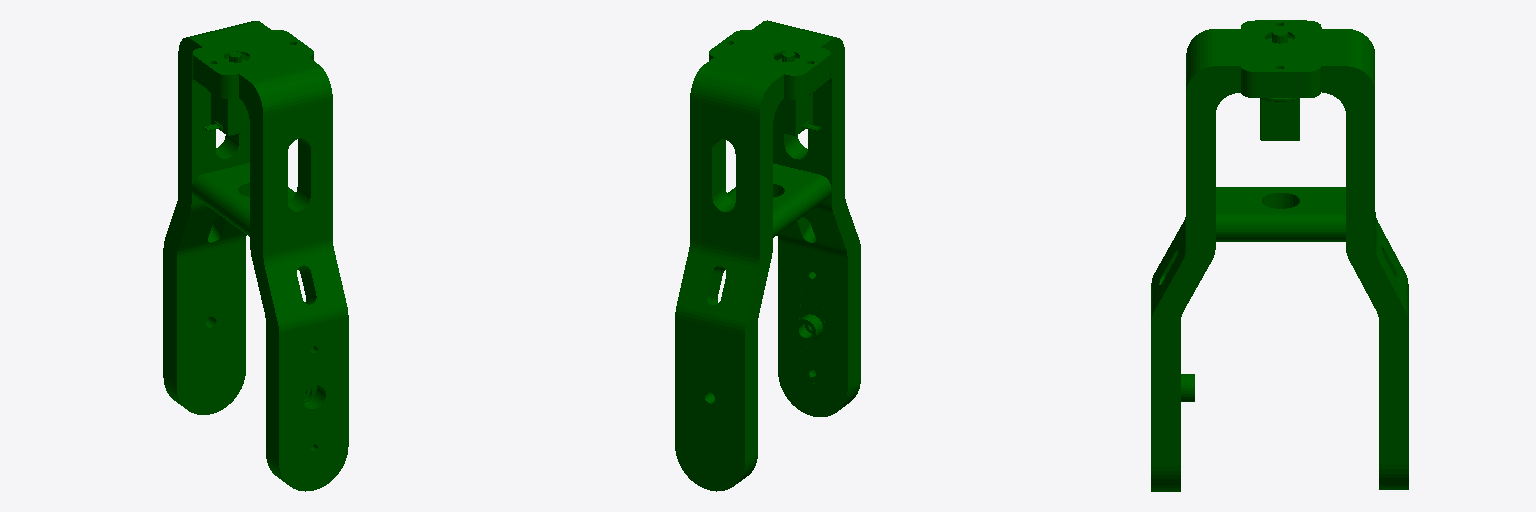
The robot description file, URDF, robot "usf_robot":
<?xml version="1.0" ?>
<!-- =================================================================================== -->
<!-- |    This document was autogenerated by xacro from usf_robot.xacro                | -->
<!-- |    EDITING THIS FILE BY HAND IS NOT RECOMMENDED                                 | -->
<!-- =================================================================================== -->
<robot name="usf_robot">
  <!-- USF colors -->
  <material name="gold">
    <color rgba="0.721 0.525 0.043 1.0"/>
  </material>
  <material name="dark_evergreen">
    <color rgba="0.0 0.392 0.0 1.0"/>
  </material>
  <material name="silver">
    <color rgba="0.700 0.700 0.700 1.000"/>
  </material>
  <transmission name="link0_to_base_link_tran">
    <type>transmission_interface/SimpleTransmission</type>
    <joint name="link0_to_base_link">
      <hardwareInterface>hardware_interface/EffortJointInterface</hardwareInterface>
    </joint>
    <actuator name="link0_to_base_link_actr">
      <hardwareInterface>hardware_interface/EffortJointInterface</hardwareInterface>
      <mechanicalReduction>1</mechanicalReduction>
    </actuator>
  </transmission>
  <transmission name="link1_to_link0_tran">
    <type>transmission_interface/SimpleTransmission</type>
    <joint name="link1_to_link0">
      <hardwareInterface>hardware_interface/EffortJointInterface</hardwareInterface>
    </joint>
    <actuator name="link1_to_link0_actr">
      <hardwareInterface>hardware_interface/EffortJointInterface</hardwareInterface>
      <mechanicalReduction>1</mechanicalReduction>
    </actuator>
  </transmission>
  <transmission name="link2_to_link1_tran">
    <type>transmission_interface/SimpleTransmission</type>
    <joint name="link2_to_link1">
      <hardwareInterface>hardware_interface/EffortJointInterface</hardwareInterface>
    </joint>
    <actuator name="link2_to_link1_actr">
      <hardwareInterface>hardware_interface/EffortJointInterface</hardwareInterface>
      <mechanicalReduction>1</mechanicalReduction>
    </actuator>
  </transmission>
  <transmission name="wrist_to_link2_tran">
    <type>transmission_interface/SimpleTransmission</type>
    <joint name="wrist_to_link2">
      <hardwareInterface>hardware_interface/EffortJointInterface</hardwareInterface>
    </joint>
    <actuator name="wrist_to_link2_actr">
      <hardwareInterface>hardware_interface/EffortJointInterface</hardwareInterface>
      <mechanicalReduction>1</mechanicalReduction>
    </actuator>
  </transmission>
  <transmission name="claw0_to_wrist_tran">
    <type>transmission_interface/SimpleTransmission</type>
    <joint name="claw0_to_wrist">
      <hardwareInterface>hardware_interface/EffortJointInterface</hardwareInterface>
    </joint>
    <actuator name="claw0_to_wrist_actr">
      <hardwareInterface>hardware_interface/EffortJointInterface</hardwareInterface>
      <mechanicalReduction>1</mechanicalReduction>
    </actuator>
  </transmission>
  <transmission name="claw1_to_wrist_tran">
    <type>transmission_interface/SimpleTransmission</type>
    <joint name="claw1_to_wrist">
      <hardwareInterface>hardware_interface/EffortJointInterface</hardwareInterface>
    </joint>
    <actuator name="claw1_to_wrist_actr">
      <hardwareInterface>hardware_interface/EffortJointInterface</hardwareInterface>
      <mechanicalReduction>1</mechanicalReduction>
    </actuator>
  </transmission>
  <gazebo>
    <plugin filename="libgazebo_ros_control.so" name="control"/>
  </gazebo>
  <gazebo reference="base_link">
    <material>Gazebo/Silver</material>
    <mu1>0.2</mu1>
    <mu2>0.2</mu2>
    <self_collide>true</self_collide>
    <gravity>true</gravity>
  </gazebo>
  <gazebo reference="link0_1">
    <material>Gazebo/Silver</material>
    <mu1>0.2</mu1>
    <mu2>0.2</mu2>
    <self_collide>true</self_collide>
  </gazebo>
  <gazebo reference="link1_1">
    <material>Gazebo/Silver</material>
    <mu1>0.2</mu1>
    <mu2>0.2</mu2>
    <self_collide>true</self_collide>
  </gazebo>
  <gazebo reference="link2_1">
    <material>Gazebo/Silver</material>
    <mu1>0.2</mu1>
    <mu2>0.2</mu2>
    <self_collide>true</self_collide>
  </gazebo>
  <gazebo reference="wrist_1">
    <material>Gazebo/Silver</material>
    <mu1>0.2</mu1>
    <mu2>0.2</mu2>
    <self_collide>true</self_collide>
  </gazebo>
  <gazebo reference="claw0_1">
    <material>Gazebo/Silver</material>
    <mu1>0.2</mu1>
    <mu2>0.2</mu2>
    <self_collide>true</self_collide>
  </gazebo>
  <gazebo reference="claw1_1">
    <material>Gazebo/Silver</material>
    <mu1>0.2</mu1>
    <mu2>0.2</mu2>
    <self_collide>true</self_collide>
  </gazebo>
  <link name="base_link">
    <inertial>
      <origin rpy="0 0 0" xyz="4.095840186019689e-05 -0.00047837113585616297 0.030465846604467023"/>
      <mass value="6.2514798322801415"/>
      <inertia ixx="0.01073" ixy="-0.0" ixz="0.0" iyy="0.010393" iyz="8e-06" izz="0.014172"/>
    </inertial>
    <visual>
      <origin rpy="0 0 0" xyz="0 0 0"/>
      <geometry>
        <mesh filename="file://[local-path]/usf_robot_description/install/usf_robot_description/share/usf_robot_description/meshes/base_link.stl" scale="0.001 0.001 0.001"/>
      </geometry>
      <material name="gold"/>
    </visual>
    <collision>
      <origin rpy="0 0 0" xyz="0 0 0"/>
      <geometry>
        <mesh filename="file://[local-path]/usf_robot_description/install/usf_robot_description/share/usf_robot_description/meshes/base_link.stl" scale="0.001 0.001 0.001"/>
      </geometry>
    </collision>
  </link>
  <link name="link0_1">
    <inertial>
      <origin rpy="0 0 0" xyz="-2.716259298227874e-06 -0.0010380049259447563 0.024075797292657686"/>
      <mass value="1.1929271090807336"/>
      <inertia ixx="0.001533" ixy="1e-06" ixz="-0.0" iyy="0.001298" iyz="3.9e-05" izz="0.000904"/>
    </inertial>
    <visual>
      <origin rpy="0 0 0" xyz="0.0002 0.000356 -0.07854"/>
      <geometry>
        <mesh filename="file://[local-path]/usf_robot_description/install/usf_robot_description/share/usf_robot_description/meshes/link0_1.stl" scale="0.001 0.001 0.001"/>
      </geometry>
      <material name="dark_evergreen"/>
    </visual>
    <collision>
      <origin rpy="0 0 0" xyz="0.0002 0.000356 -0.07854"/>
      <geometry>
        <mesh filename="file://[local-path]/usf_robot_description/install/usf_robot_description/share/usf_robot_description/meshes/link0_1.stl" scale="0.001 0.001 0.001"/>
      </geometry>
    </collision>
  </link>
  <link name="link1_1">
    <inertial>
      <origin rpy="0 0 0" xyz="-0.0019587652913026312 0.034488416417771325 0.06565011429736459"/>
      <mass value="1.1661006941164045"/>
      <inertia ixx="0.004129" ixy="1e-06" ixz="-5e-06" iyy="0.003233" iyz="0.000103" izz="0.001055"/>
    </inertial>
    <visual>
      <origin rpy="0 0 0" xyz="-0.003934 0.034413 -0.147151"/>
      <geometry>
        <mesh filename="package://usf_robot_description/meshes/link1_1.stl" scale="0.001 0.001 0.001"/>
      </geometry>
      <material name="dark_evergreen"/>
    </visual>
    <collision>
      <origin rpy="0 0 0" xyz="-0.003934 0.034413 -0.147151"/>
      <geometry>
        <mesh filename="package://usf_robot_description/meshes/link1_1.stl" scale="0.001 0.001 0.001"/>
      </geometry>
    </collision>
  </link>
  <link name="link2_1">
    <inertial>
      <origin rpy="0 0 0" xyz="-0.0006992106483605159 0.034752006278891 0.06238936881043755"/>
      <mass value="1.2752880173767804"/>
      <inertia ixx="0.003526" ixy="1e-06" ixz="-4.8e-05" iyy="0.002718" iyz="4.5e-05" izz="0.001303"/>
    </inertial>
    <visual>
      <origin rpy="0 0 0" xyz="-0.004434 0.033467 -0.275786"/>
      <geometry>
        <mesh filename="package://usf_robot_description/meshes/link2_1.stl" scale="0.001 0.001 0.001"/>
      </geometry>
      <material name="dark_evergreen"/>
    </visual>
    <collision>
      <origin rpy="0 0 0" xyz="-0.004434 0.033467 -0.275786"/>
      <geometry>
        <mesh filename="package://usf_robot_description/meshes/link2_1.stl" scale="0.001 0.001 0.001"/>
      </geometry>
    </collision>
  </link>
  <link name="wrist_1">
    <inertial>
      <origin rpy="0 0 0" xyz="-0.0005413092492828012 0.0012694599894109916 0.01735230955560413"/>
      <mass value="0.27580026748282094"/>
      <inertia ixx="4.6e-05" ixy="1e-06" ixz="1e-06" iyy="0.000102" iyz="-3e-06" izz="9.7e-05"/>
    </inertial>
    <visual>
      <origin rpy="0 0 0" xyz="0.009156 0.000935 -0.40079"/>
      <geometry>
        <mesh filename="file://[local-path]/usf_robot_description/install/usf_robot_description/share/usf_robot_description/meshes/wrist_1.stl" scale="0.001 0.001 0.001"/>
      </geometry>
      <material name="dark_evergreen"/>
    </visual>
    <collision>
      <origin rpy="0 0 0" xyz="0.009156 0.000935 -0.40079"/>
      <geometry>
        <mesh filename="file://[local-path]/usf_robot_description/install/usf_robot_description/share/usf_robot_description/meshes/wrist_1.stl" scale="0.001 0.001 0.001"/>
      </geometry>
    </collision>
  </link>
  <link name="claw0_1">
    <inertial>
      <origin rpy="0 0 0" xyz="0.029746498963837527 -0.015181296968975237 0.0037018851488843096"/>
      <mass value="0.06042467247708934"/>
      <inertia ixx="1.9e-05" ixy="6e-06" ixz="-4e-06" iyy="1.7e-05" iyz="1e-06" izz="2.8e-05"/>
    </inertial>
    <visual>
      <origin rpy="0 0 0" xyz="0.001497 -0.023737 -0.429729"/>
      <geometry>
        <mesh filename="file://[local-path]/usf_robot_description/install/usf_robot_description/share/usf_robot_description/meshes/claw0_1.stl" scale="0.001 0.001 0.001"/>
      </geometry>
      <material name="gold"/>
    </visual>
    <collision>
      <origin rpy="0 0 0" xyz="0.001497 -0.023737 -0.429729"/>
      <geometry>
        <mesh filename="file://[local-path]/usf_robot_description/install/usf_robot_description/share/usf_robot_description/meshes/claw0_1.stl" scale="0.001 0.001 0.001"/>
      </geometry>
    </collision>
  </link>
  <link name="claw1_1">
    <inertial>
      <origin rpy="0 0 0" xyz="-0.023394673493672247 -0.004684523309569305 0.00039325660605243895"/>
      <mass value="0.07705542391594017"/>
      <inertia ixx="2.2e-05" ixy="-1e-05" ixz="5e-06" iyy="3.1e-05" iyz="1e-06" izz="4.3e-05"/>
    </inertial>
    <visual>
      <origin rpy="0 0 0" xyz="0.018998 -0.01558 -0.432148"/>
      <geometry>
        <mesh filename="file://[local-path]/usf_robot_description/install/usf_robot_description/share/usf_robot_description/meshes/claw1_1.stl" scale="0.001 0.001 0.001"/>
      </geometry>
      <material name="gold"/>
    </visual>
    <collision>
      <origin rpy="0 0 0" xyz="0.018998 -0.01558 -0.432148"/>
      <geometry>
        <mesh filename="file://[local-path]/usf_robot_description/install/usf_robot_description/share/usf_robot_description/meshes/claw1_1.stl" scale="0.001 0.001 0.001"/>
      </geometry>
    </collision>
  </link>
  <joint name="link0_to_base_link" type="revolute">
    <origin rpy="0 0 0" xyz="-0.0002 -0.000356 0.07854"/>
    <parent link="base_link"/>
    <child link="link0_1"/>
    <axis xyz="-0.0 0.0 1.0"/>
    <limit effort="100" lower="0.0" upper="4.712389" velocity="100"/>
  </joint>
  <joint name="link1_to_link0" type="revolute">
    <origin rpy="0 0 0" xyz="0.002123 -0.03474 0.069949"/>
    <parent link="link0_1"/>
    <child link="link1_1"/>
    <axis xyz="-0.0 -1.0 -0.0"/>
    <limit effort="100" lower="-1.570796" upper="1.570796" velocity="100"/>
  </joint>
  <joint name="link2_to_link1" type="revolute">
    <origin rpy="0 0 0" xyz="0.0005 0.000946 0.128635"/>
    <parent link="link1_1"/>
    <child link="link2_1"/>
    <axis xyz="0.0 -1.0 -0.0"/>
    <limit effort="100" lower="-1.570796" upper="1.570796" velocity="100"/>
  </joint>
  <joint name="wrist_to_link2" type="revolute">
    <origin rpy="0 0 0" xyz="-0.009567 0.034632 0.128329"/>
    <parent link="link2_1"/>
    <child link="wrist_1"/>
    <axis xyz="-0.0 -0.0 1.0"/>
    <limit effort="100" lower="0.0" upper="4.712389" velocity="100"/>
  </joint>
  <joint name="claw0_to_wrist" type="revolute">
    <origin rpy="0 0 0" xyz="0.007659 0.024672 0.028939"/>
    <parent link="wrist_1"/>
    <child link="claw0_1"/>
    <axis xyz="0.0 1.0 0.0"/>
    <limit effort="100" lower="-1.25" upper="0.0" velocity="100"/>
  </joint>
  <joint name="claw1_to_wrist" type="revolute">
    <origin rpy="0 0 0" xyz="-0.009842 0.016515 0.031358"/>
    <parent link="wrist_1"/>
    <child link="claw1_1"/>
    <axis xyz="0.0 -1.0 0.0"/>
    <limit effort="100" lower="-1.134464" upper="1.25" velocity="100"/>
    <mimic joint="claw0_to_wrist" multiplier="1.0"/>
  </joint>
</robot>

--- What the picture shows (computed from the rendered views, not written in the file) ---
3 views of the same robot in one strip: view 1: azimuth 30°, elevation 25°; view 2: azimuth 150°, elevation 25°; view 3: azimuth 270°, elevation 25° (orthographic).
Robot: usf_robot — 7 links, 6 joints (6 revolute); root link base_link; default pose: all joints at 0.
Links seen in each view (by area): view 1: link2_1; view 2: link2_1; view 3: link2_1.
Boxes of the visible links, box(x1,y1,x2,y2) form: link2_1: box(163, 21, 348, 491); link2_1: box(675, 20, 860, 491); link2_1: box(1151, 20, 1408, 491).
Size in the robot's own frame: 0.0414 by 0.0866 by 0.1649 metres.
Meshes: 2 distinct files referenced, 1 mesh visuals loaded (1 binary STL); not drawn: 1 (reference not matched to a file when rendering), 5 (reference in a form the renderer does not follow; not among the files counted above).